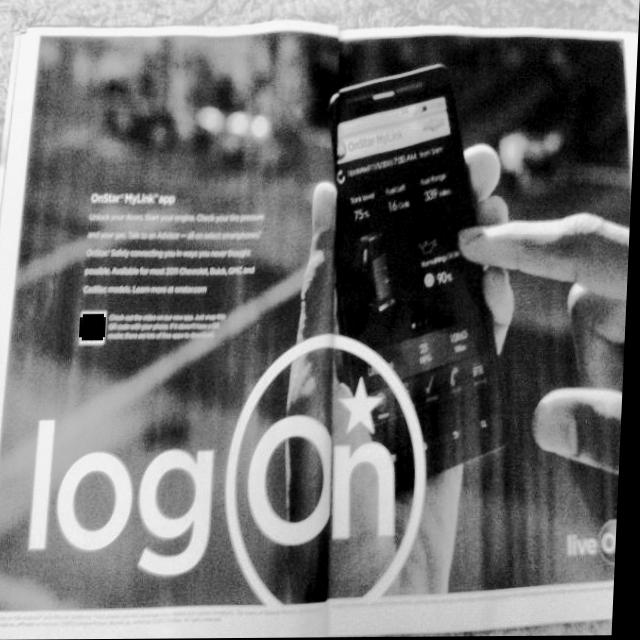qr_code: (84, 315, 108, 339)
